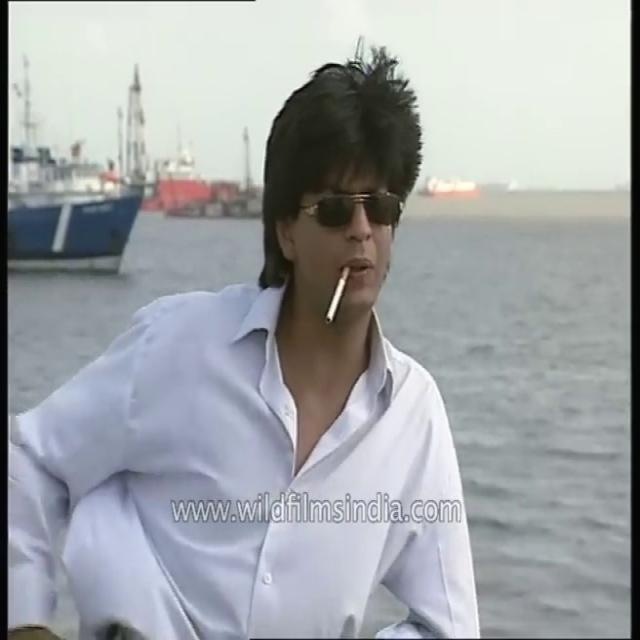Smooking: (314, 263, 360, 329)
